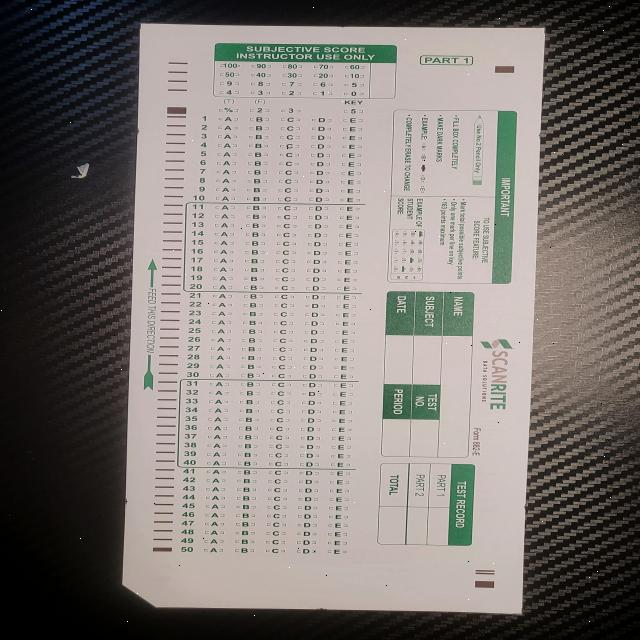scantron: (120, 22, 546, 615)
